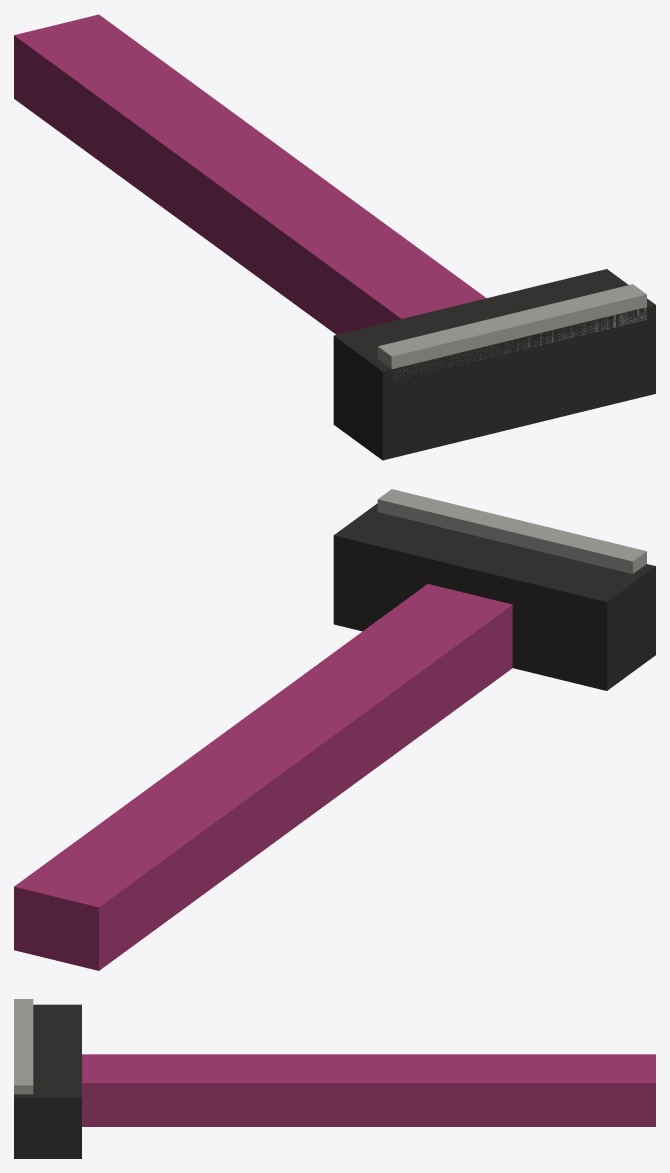
The model's file is razor.glb.
3 renders of one model, top to bottom at view 1: azimuth 30°, elevation 25°; view 2: azimuth 150°, elevation 25°; view 3: azimuth 270°, elevation 25°, orthographic. The views are drawn at different scales.
Visible parts, largest first — view 1: accent-magenta, plastic-dark, brushed; view 2: accent-magenta, plastic-dark, brushed; view 3: accent-magenta, plastic-dark, brushed.
Part boxes in pixels (x1,y1,x2,y2): accent-magenta: (14,14,486,334); plastic-dark: (333,269,655,460); brushed: (377,284,646,379); accent-magenta: (14,584,512,970); plastic-dark: (333,503,655,690); brushed: (377,489,646,573); accent-magenta: (82,1054,655,1126); plastic-dark: (14,1004,81,1158); brushed: (14,999,33,1094).
Bounding box in the file's own units: 0.045 × 0.016 × 0.132.
